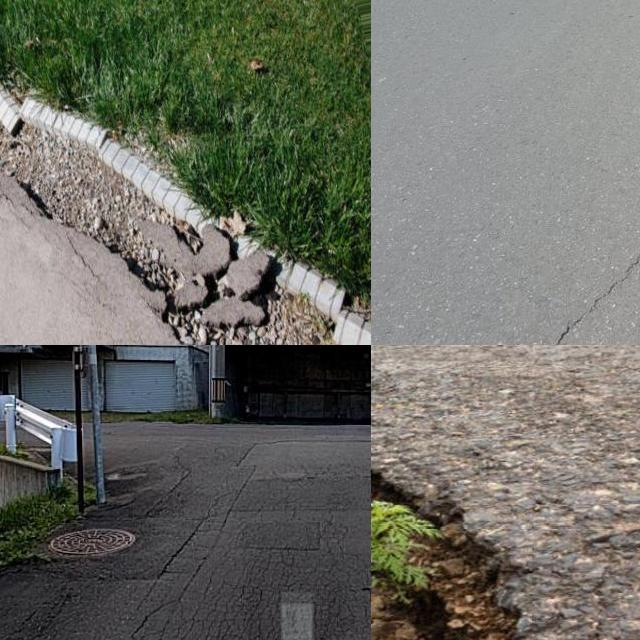Pinggir: (0, 33, 371, 345), (371, 404, 588, 640)
Retak Buaya: (173, 534, 371, 640)
